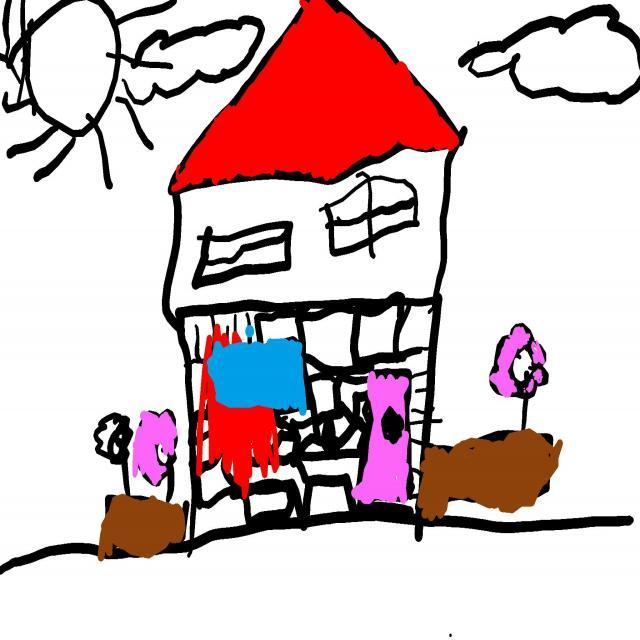door: (361, 364, 411, 514)
house: (163, 0, 463, 552)
roof: (169, 0, 461, 194)
wall: (169, 143, 456, 552)
window: (320, 171, 420, 258), (208, 339, 307, 416), (192, 223, 293, 288)
